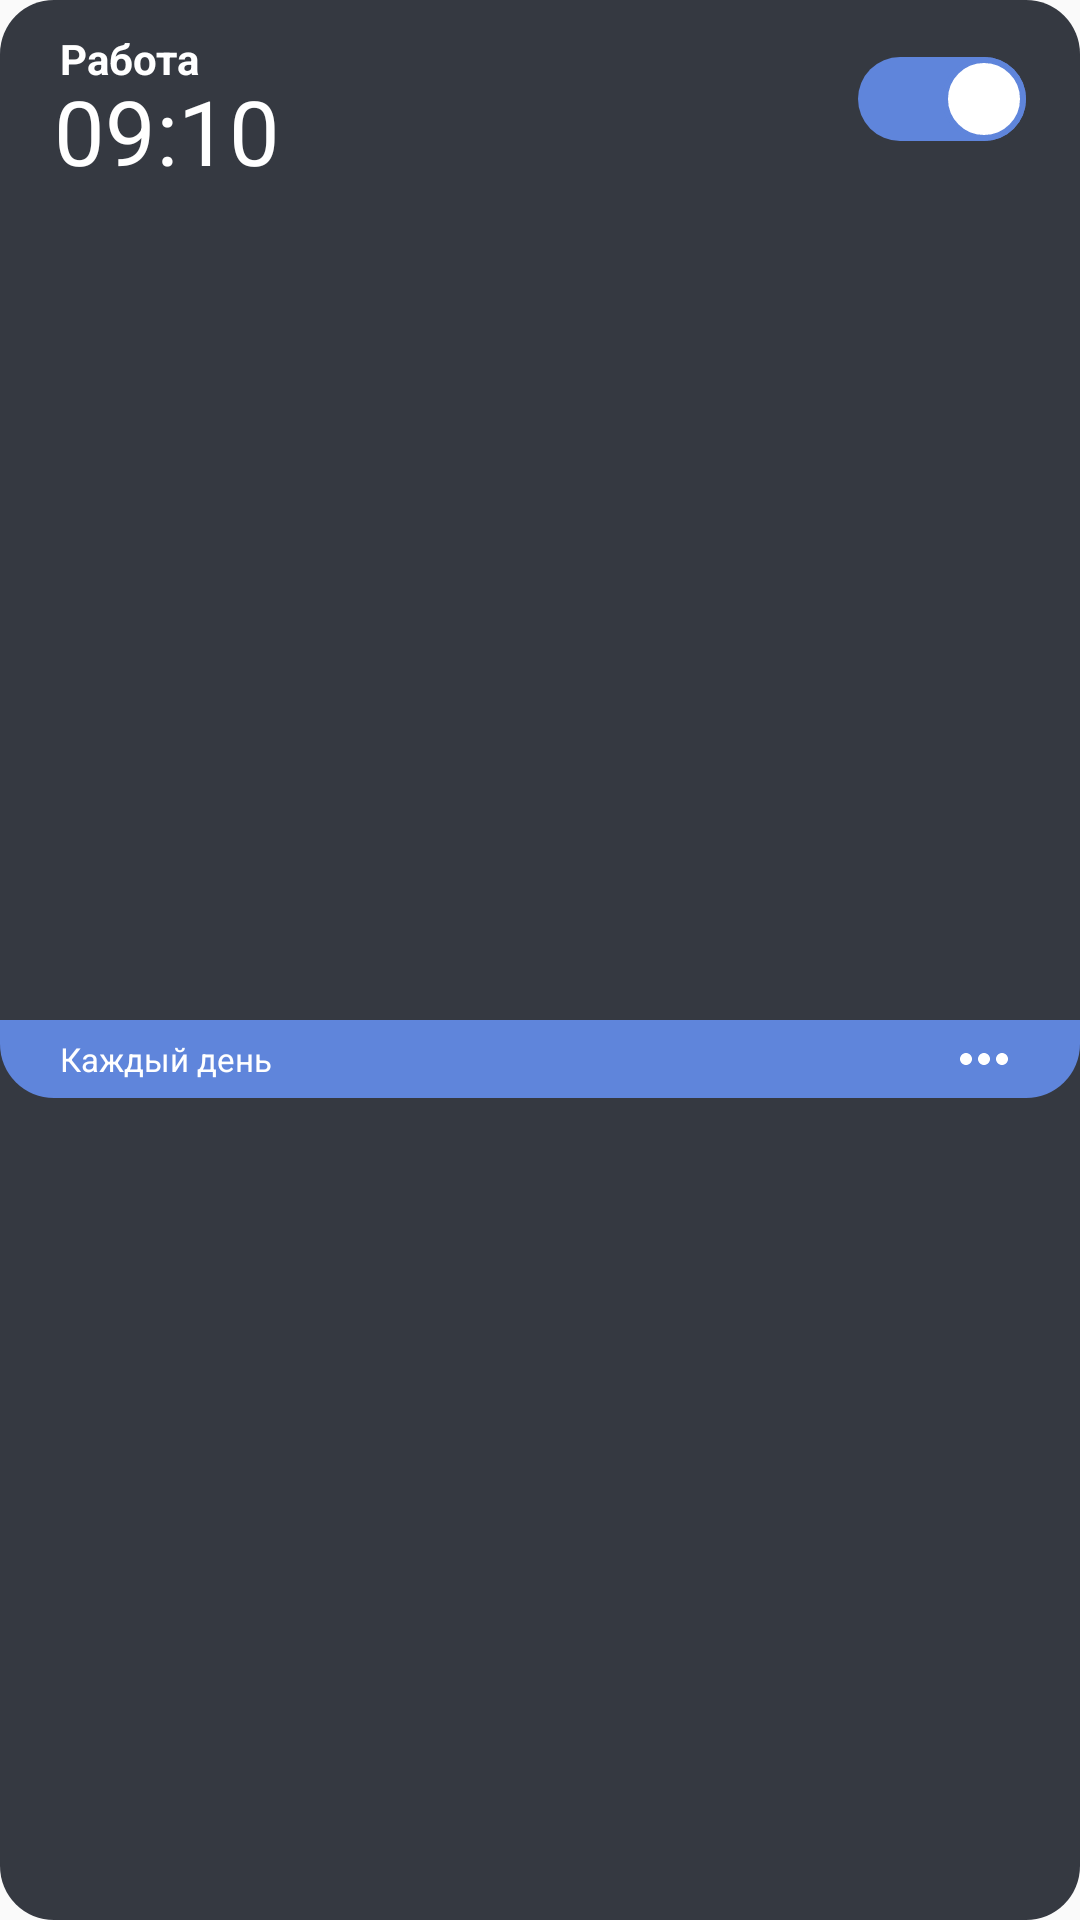

Icon bounding boxes for this 1080*1920 phone screenshot, format (x1, y1, x2, y2):
more info: (960, 1053, 1008, 1065)
